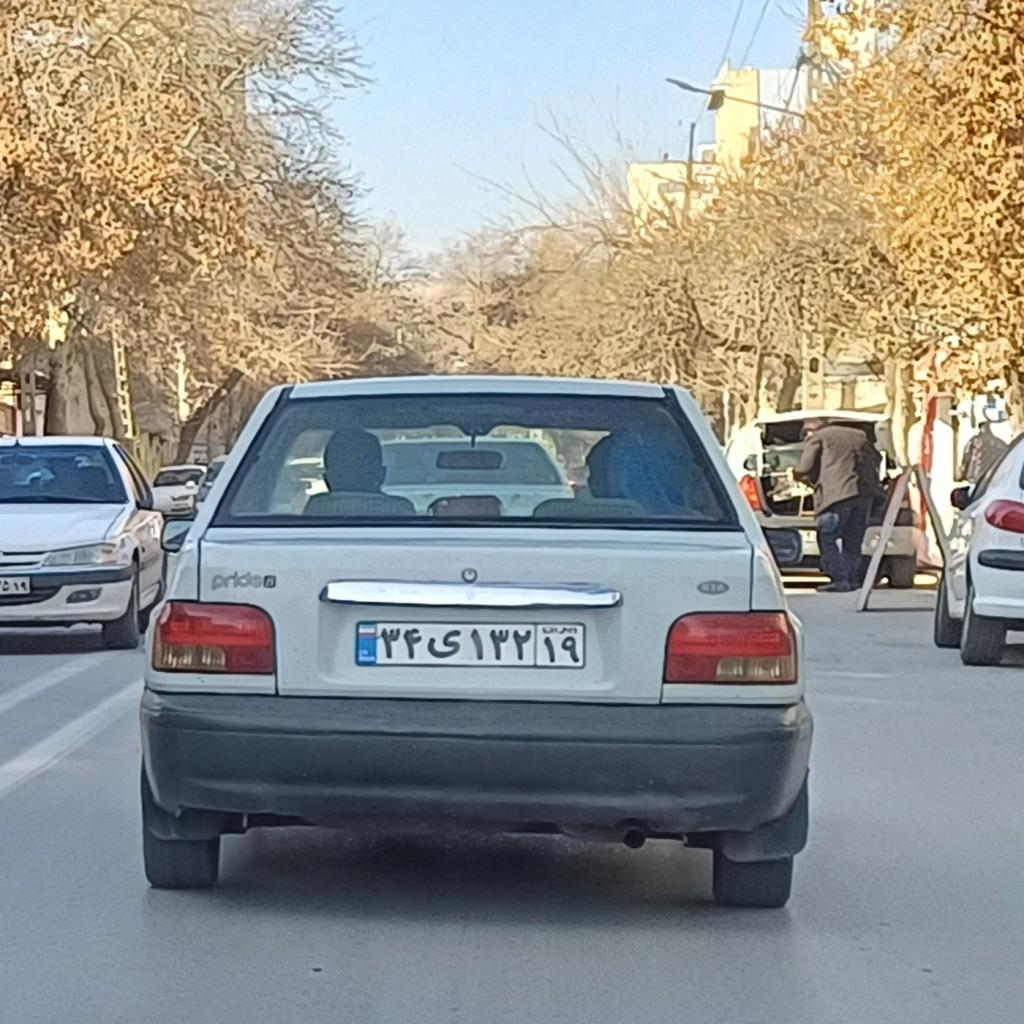Plates: (356, 620, 585, 668)
